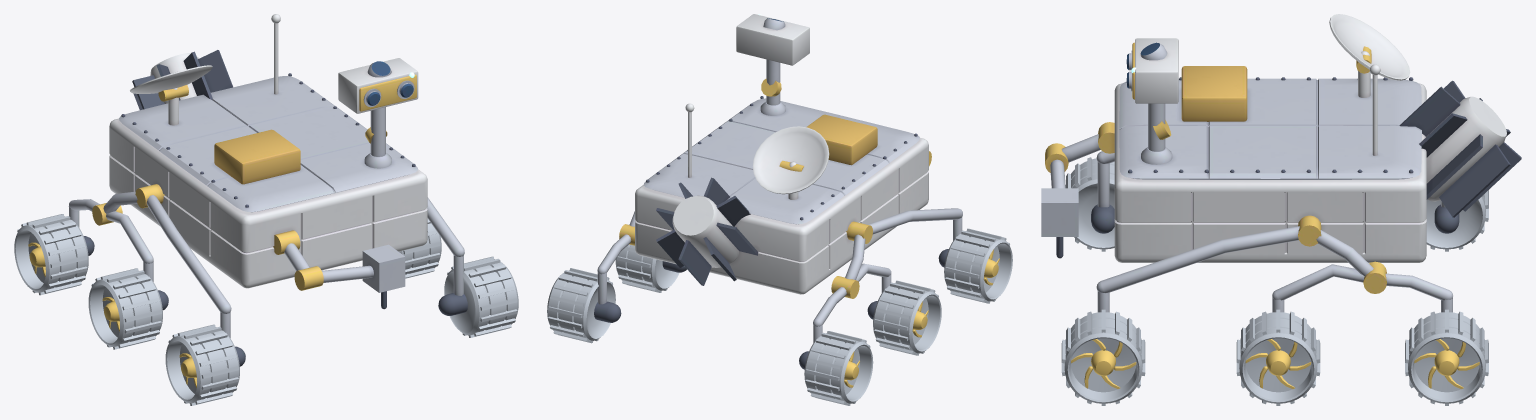
The model's file is mars-rover.glb.
3 views of the same model, side by side, from view 1: azimuth 30°, elevation 25°; view 2: azimuth 150°, elevation 25°; view 3: azimuth 270°, elevation 25° (orthographic). The views are drawn at different scales.
Parts seen in each view (by area): view 1: mars-rover_body, mars-rover_wheel_rear_l, mars-rover_wheel_middle_l, mars-rover_wheel_front_l, mars-rover_wheel_front_r, mars-rover_wheel_middle_r; view 2: mars-rover_body, mars-rover_wheel_middle_l, mars-rover_wheel_rear_l, mars-rover_wheel_front_l, mars-rover_wheel_rear_r, mars-rover_wheel_middle_r; view 3: mars-rover_body, mars-rover_wheel_front_r, mars-rover_wheel_middle_r, mars-rover_wheel_rear_r, mars-rover_wheel_front_l, mars-rover_wheel_rear_l.
Part boxes in pixels (x1,y1,x2,y2): mars-rover_body: [68, 14, 467, 366]; mars-rover_wheel_rear_l: [14, 214, 88, 295]; mars-rover_wheel_middle_l: [88, 268, 162, 349]; mars-rover_wheel_front_l: [165, 324, 239, 405]; mars-rover_wheel_front_r: [444, 256, 518, 337]; mars-rover_wheel_middle_r: [399, 218, 441, 278]; mars-rover_body: [594, 14, 962, 369]; mars-rover_wheel_middle_l: [873, 280, 941, 355]; mars-rover_wheel_rear_l: [804, 331, 873, 405]; mars-rover_wheel_front_l: [944, 228, 1012, 303]; mars-rover_wheel_rear_r: [547, 268, 615, 343]; mars-rover_wheel_middle_r: [615, 244, 679, 292]; mars-rover_body: [1041, 14, 1521, 312]; mars-rover_wheel_front_r: [1061, 309, 1145, 405]; mars-rover_wheel_middle_r: [1236, 309, 1320, 405]; mars-rover_wheel_rear_r: [1405, 309, 1488, 405]; mars-rover_wheel_front_l: [1065, 157, 1114, 251]; mars-rover_wheel_rear_l: [1426, 190, 1488, 251].
Size of the model in its own units: 2.7 by 2.17 by 3.08.
Materials: 20 (1 with a texture image).
